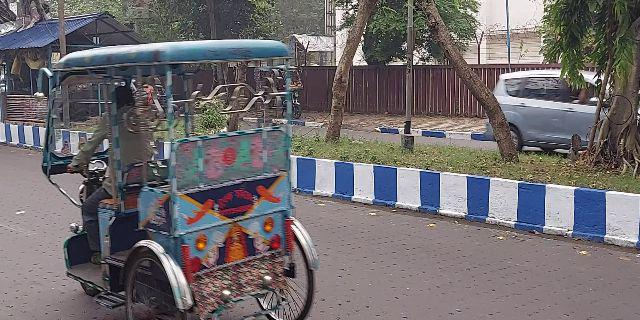Rickshaw: (47, 46, 321, 320)
